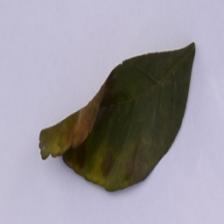black spot: (50, 84, 158, 191)
